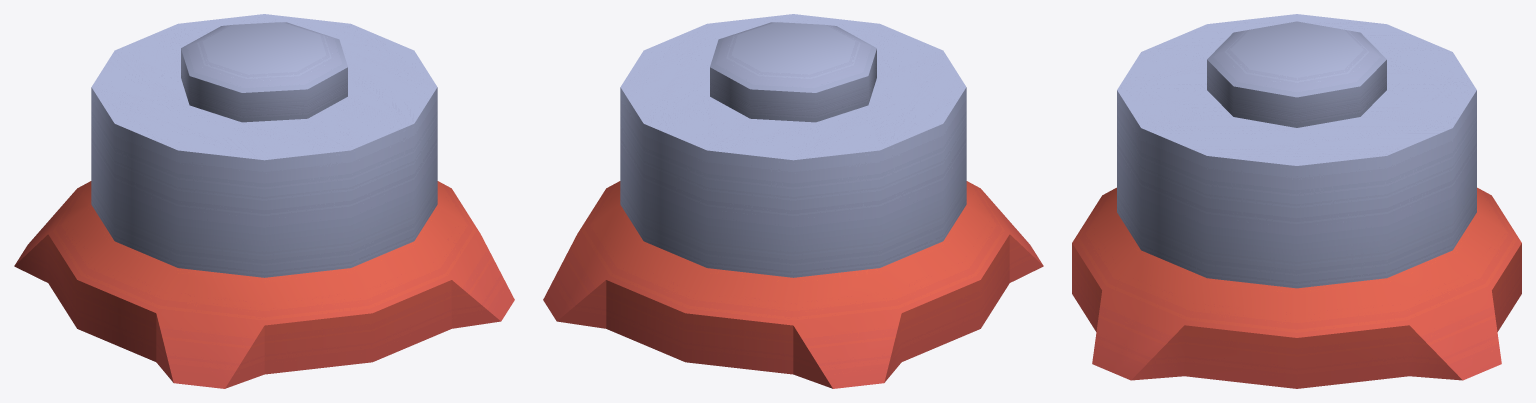
Rendered from tower-round-bottom-b.glb.
3 views of the same model, side by side, from view 1: azimuth 30°, elevation 25°; view 2: azimuth 150°, elevation 25°; view 3: azimuth 270°, elevation 25° (orthographic). The views are drawn at different scales.
Visible parts, largest first — view 1: tower-round-bottom-b; view 2: tower-round-bottom-b; view 3: tower-round-bottom-b.
Part boxes in pixels (x1,y1,x2,y2): tower-round-bottom-b: (14, 14, 514, 388); tower-round-bottom-b: (543, 14, 1043, 388); tower-round-bottom-b: (1072, 14, 1521, 388).
Size of the model in its own units: 3 by 1.8 by 3.
1 material, 1 textured.
